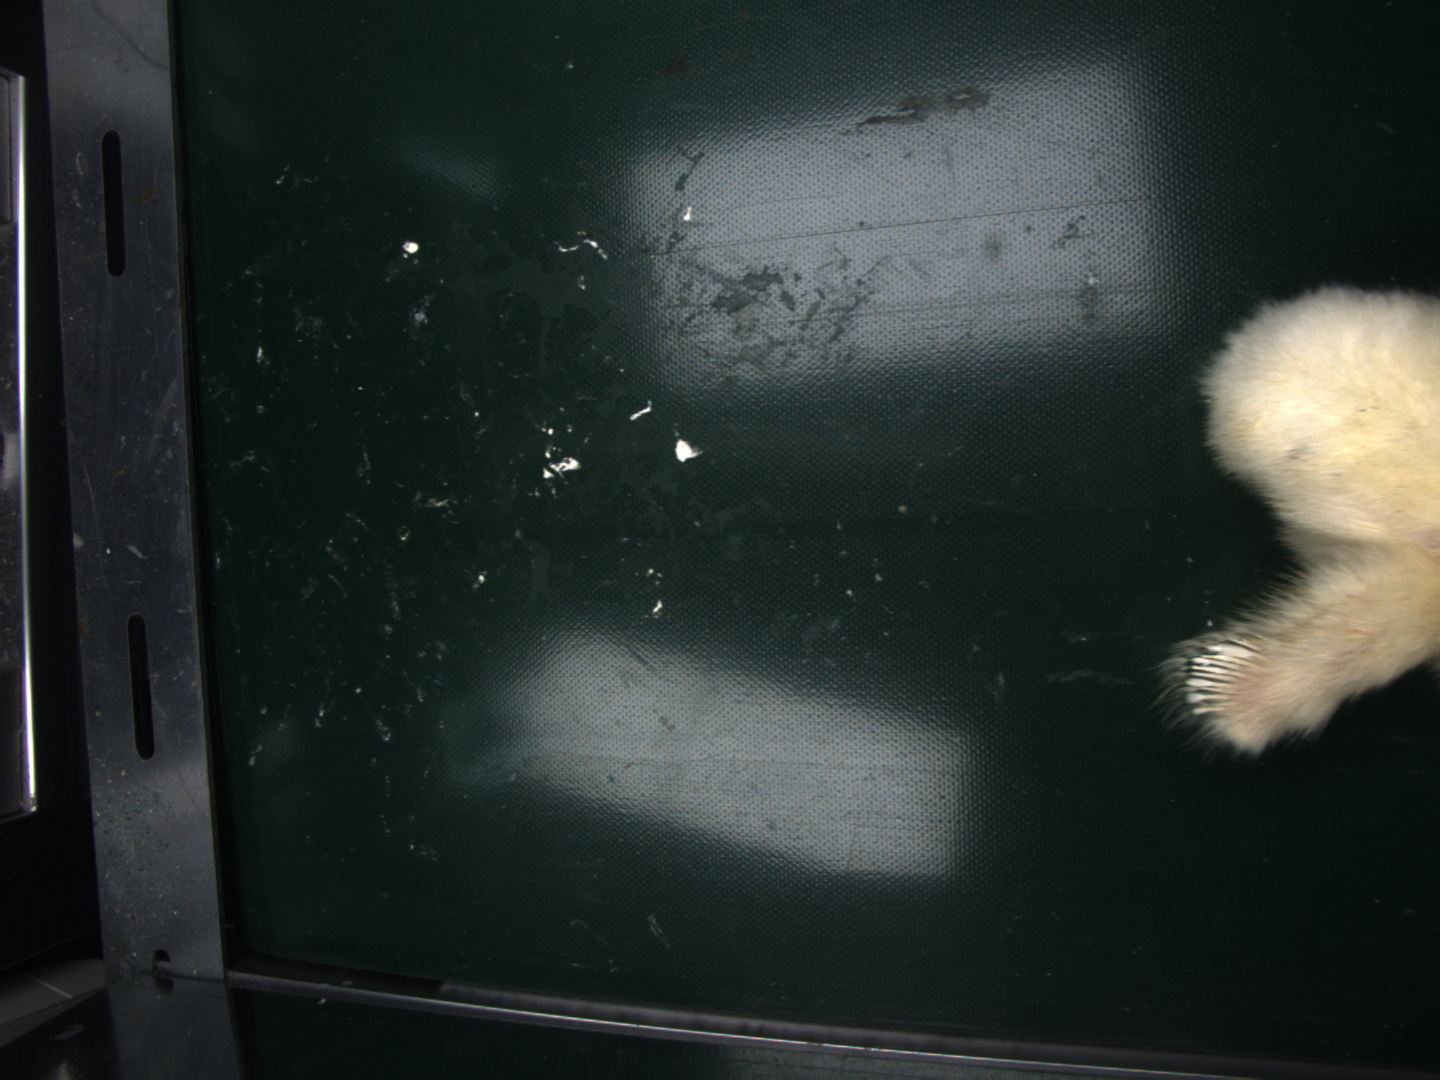male: (1183, 639, 1257, 727)
